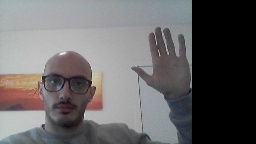Mano_aperta: (129, 24, 192, 99)
